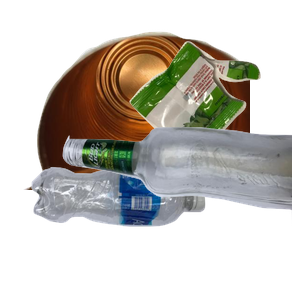glass: (60, 124, 300, 300)
metal: (21, 29, 261, 209)
plastic: (29, 165, 227, 300)
trash: (127, 39, 300, 193)
